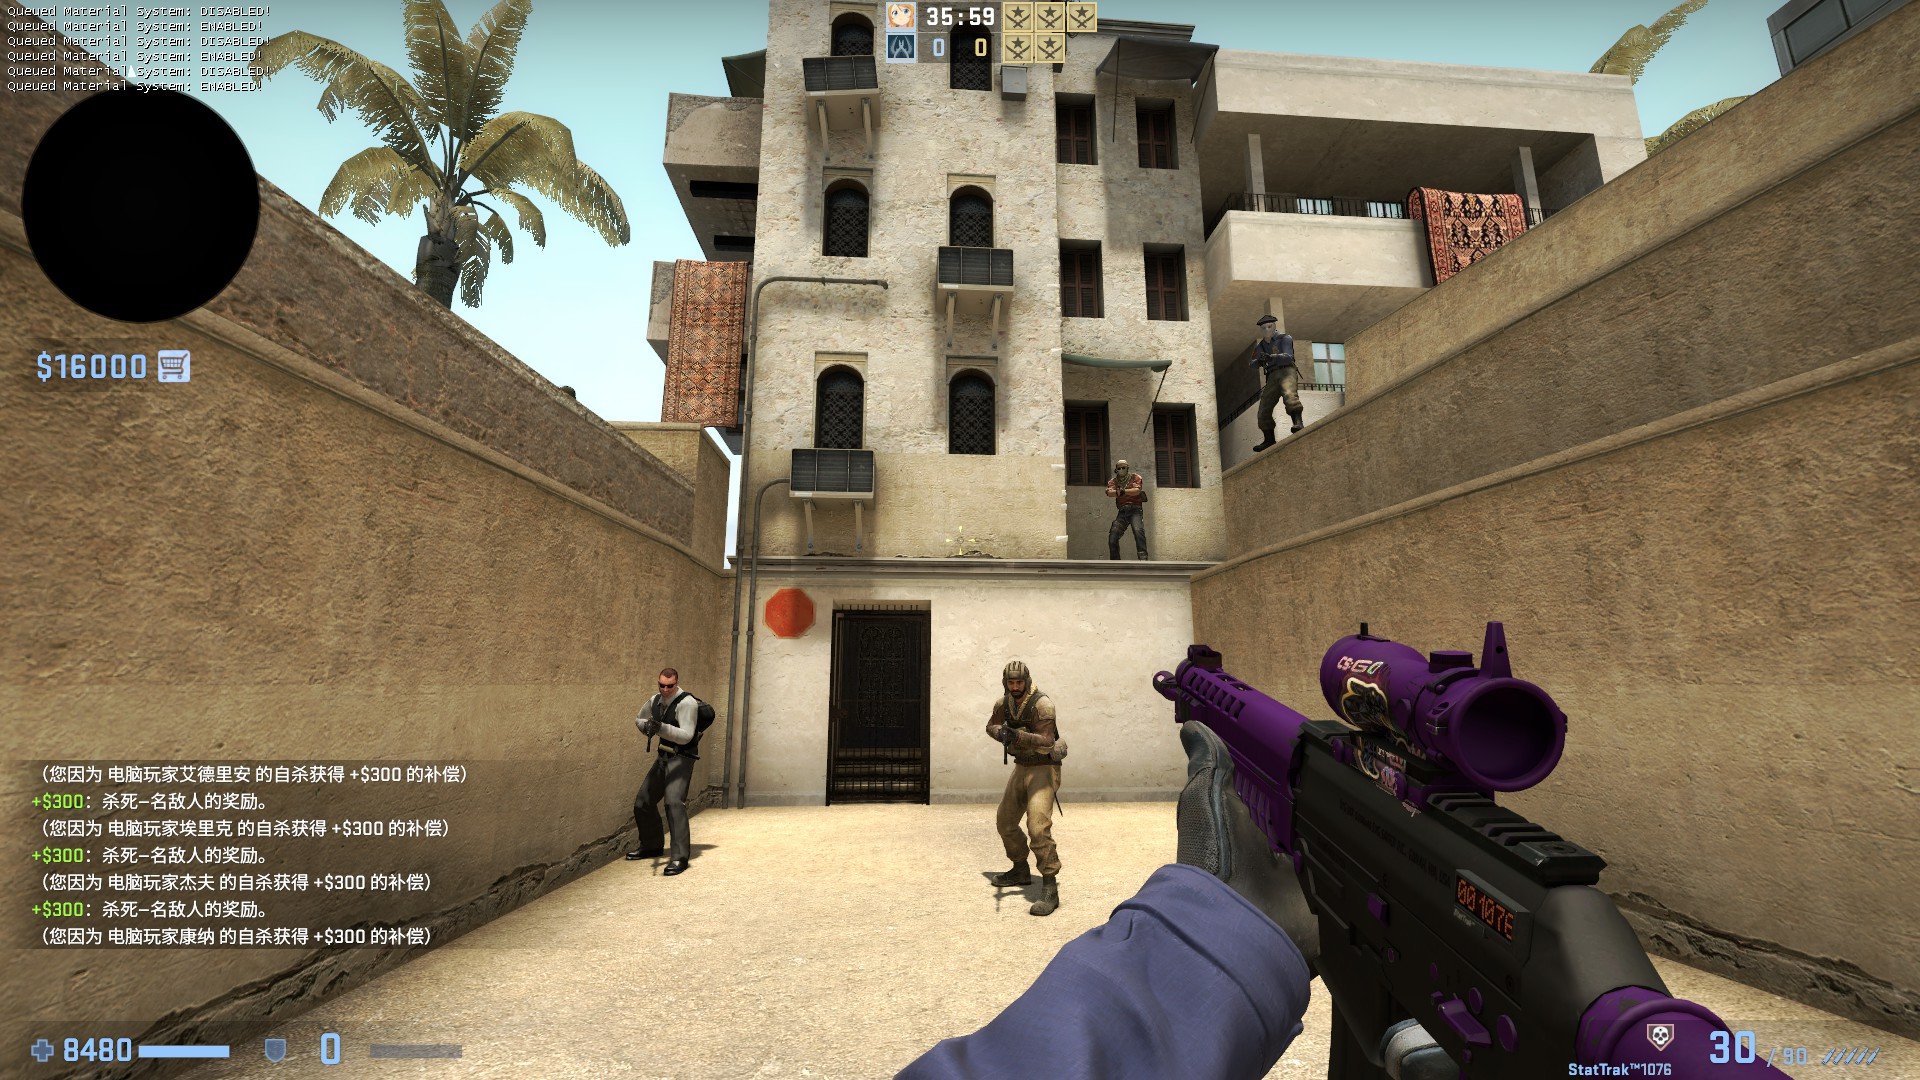head: (1000, 658, 1033, 699), (654, 666, 677, 698), (1256, 314, 1277, 339), (1114, 459, 1129, 476)
